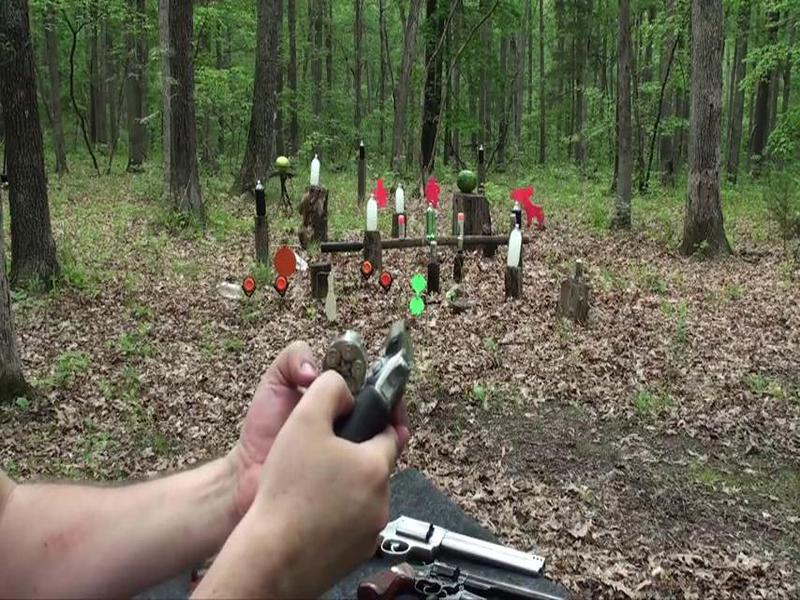Revolver: (375, 504, 557, 595)
